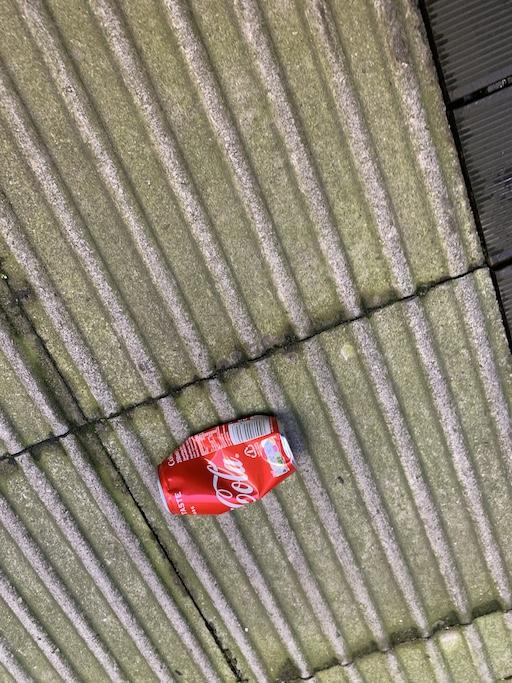Aluminum can: (140, 400, 340, 520)
